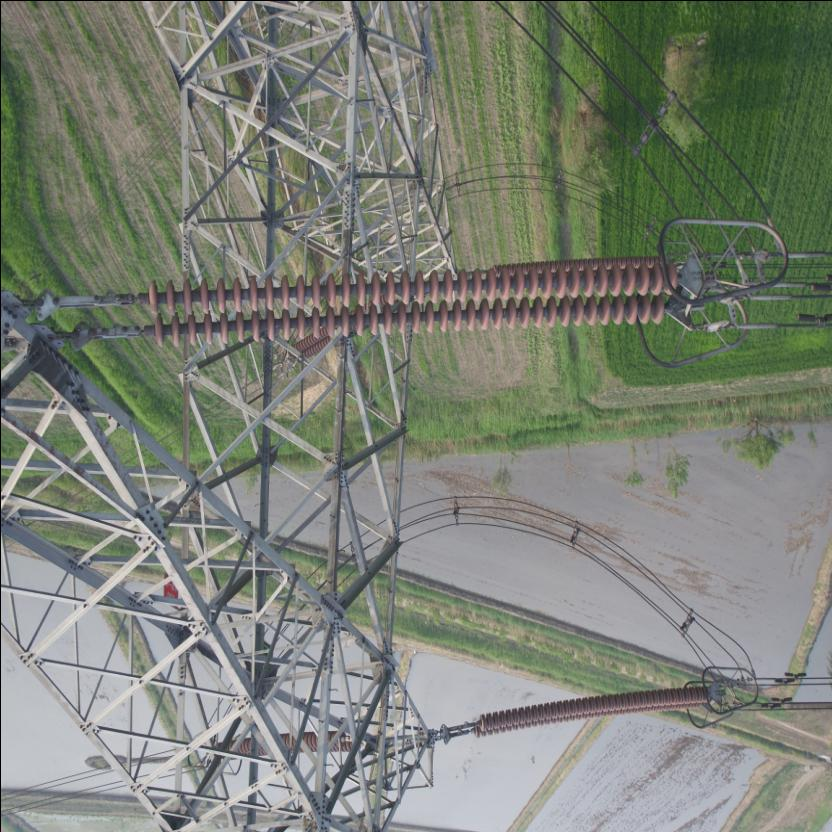insulator: (101, 260, 691, 349), (460, 686, 720, 742)
